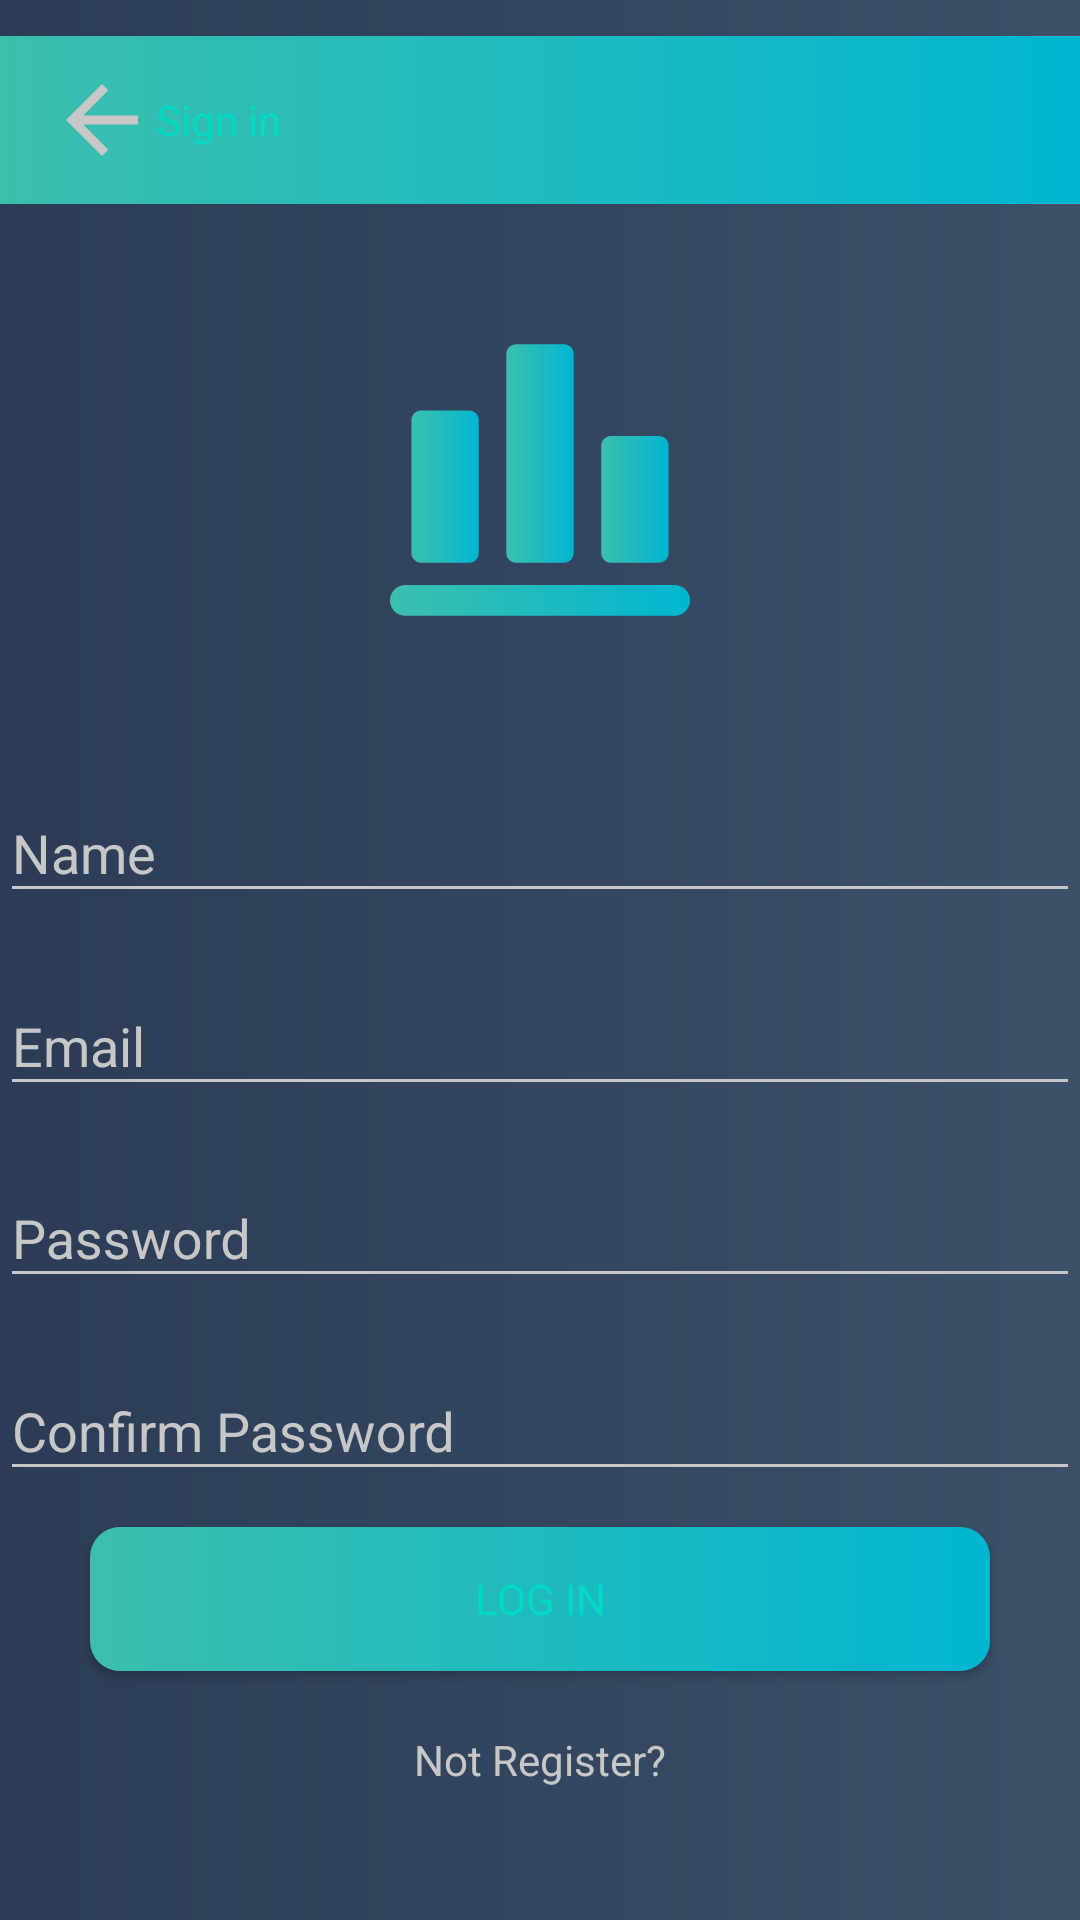

Where to tap for icons on this 1080px x 1920px app screen, as point (x, y):
Back arrow: point (102, 120)
